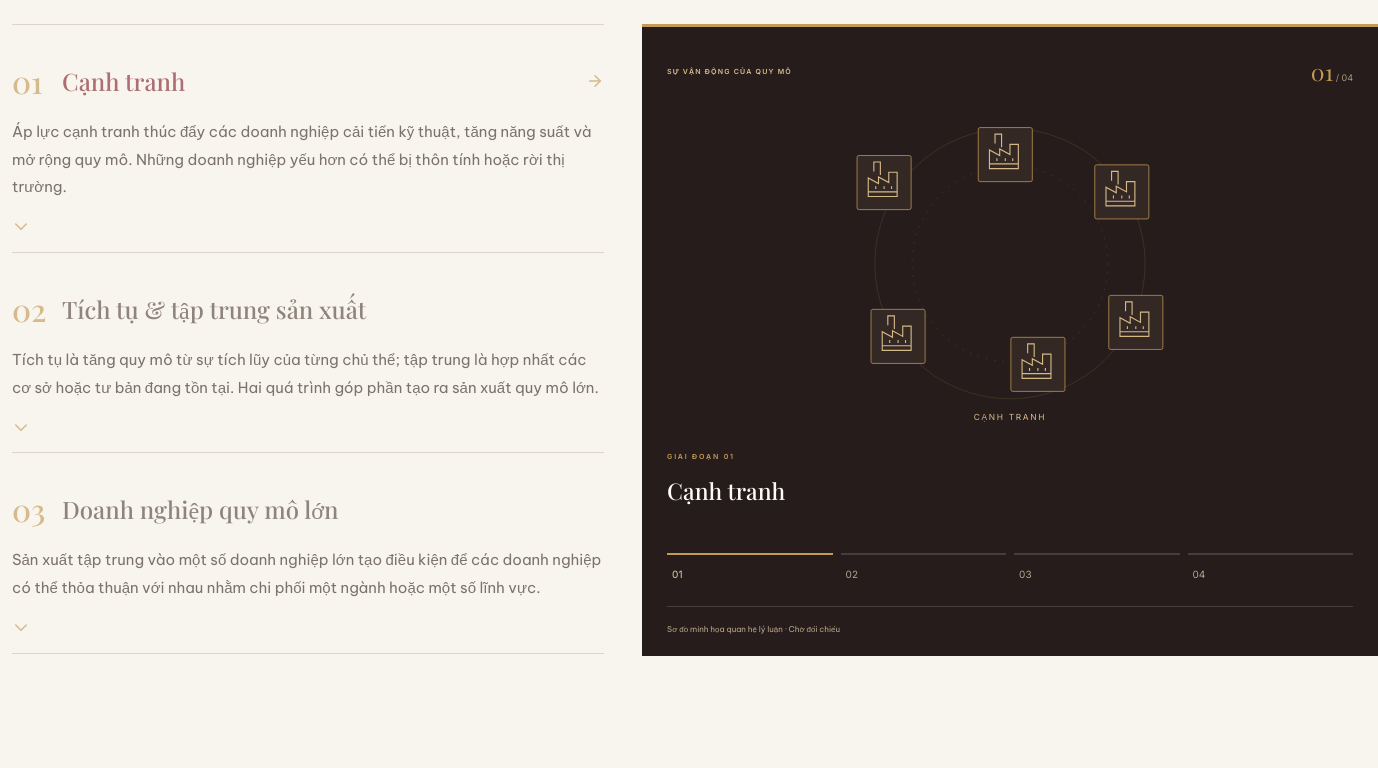
Test: Editorial learning interactions › retains every formation explanation and allows explicit stage selection
Expected: the text "Áp lực cạnh tranh thúc đẩy các doanh nghiệp cải tiến kỹ thuật, tăng năng suất và mở rộng quy mô. Những doanh nghiệp yếu " is shown, [12,122,592,196]
Expected: the text "Tích tụ là tăng quy mô từ sự tích lũy của từng chủ thể; tập trung là hợp nhất các cơ sở hoặc tư bản đang tồn tại. Hai qu" is shown, [12,350,599,397]
Click the button named "Xem giai đoạn 4": (1270, 573) [1188,553,1353,594]
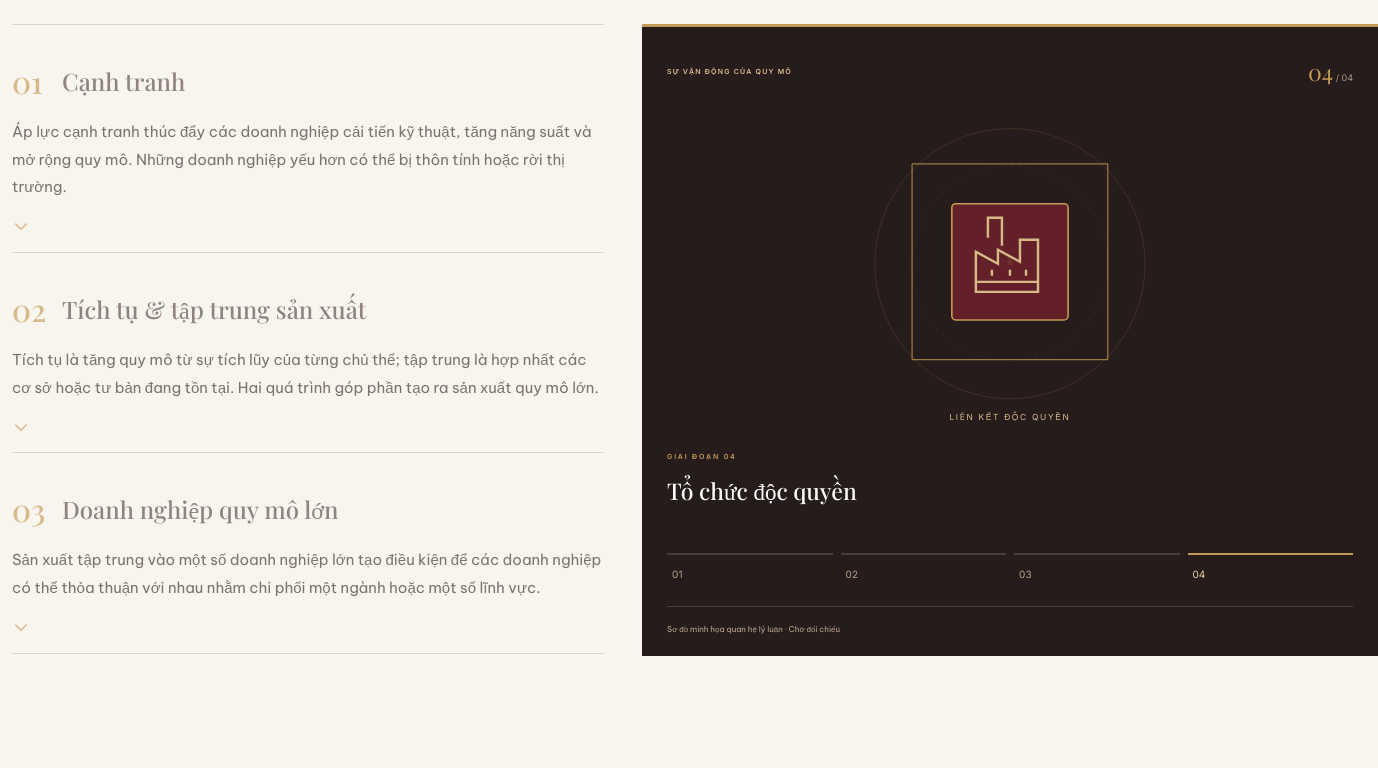
Expected: the heading "Tổ chức độc quyền" is shown, [667,475,857,506]
